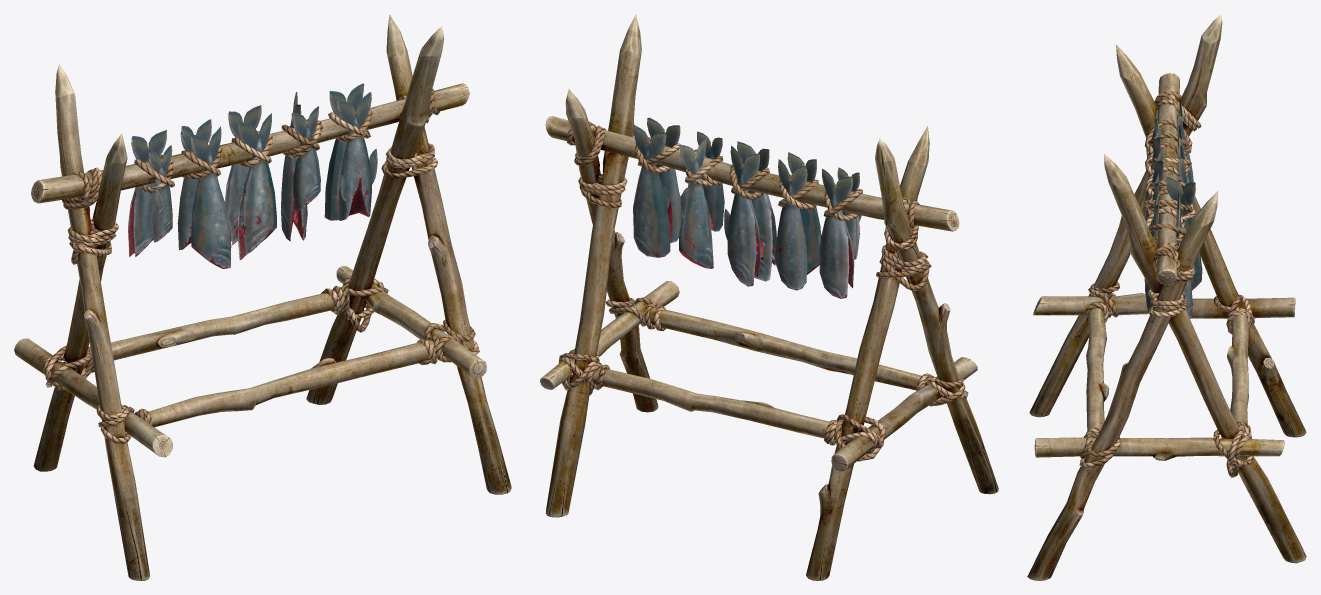
3 views of the same model, side by side, from view 1: azimuth 30°, elevation 25°; view 2: azimuth 150°, elevation 25°; view 3: azimuth 270°, elevation 25° (orthographic). The views are drawn at different scales.
Visible parts, largest first — view 1: SM_Garou_Rack_Fish_01_LOD0; view 2: SM_Garou_Rack_Fish_01_LOD0; view 3: SM_Garou_Rack_Fish_01_LOD0.
Part boxes in pixels (x1,y1,x2,y2): SM_Garou_Rack_Fish_01_LOD0: [14, 14, 511, 580]; SM_Garou_Rack_Fish_01_LOD0: [540, 14, 998, 580]; SM_Garou_Rack_Fish_01_LOD0: [1027, 14, 1306, 580].
Bounding box in the file's own units: 2.61 × 2.58 × 1.58.
Materials: 2 (2 with a texture image).
